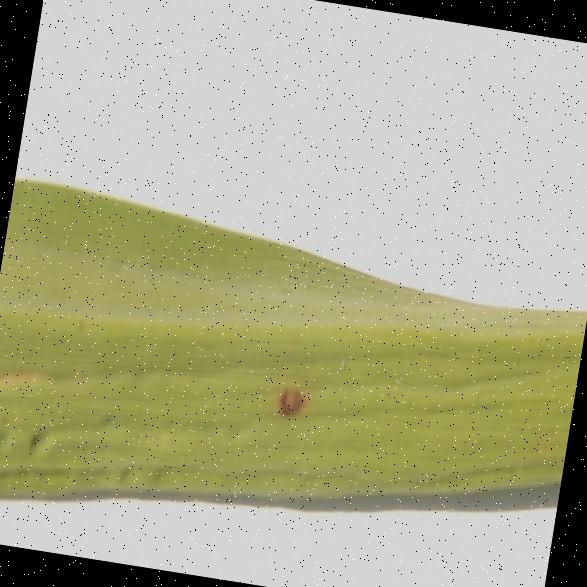Brown_Spot: (268, 353, 326, 439)
